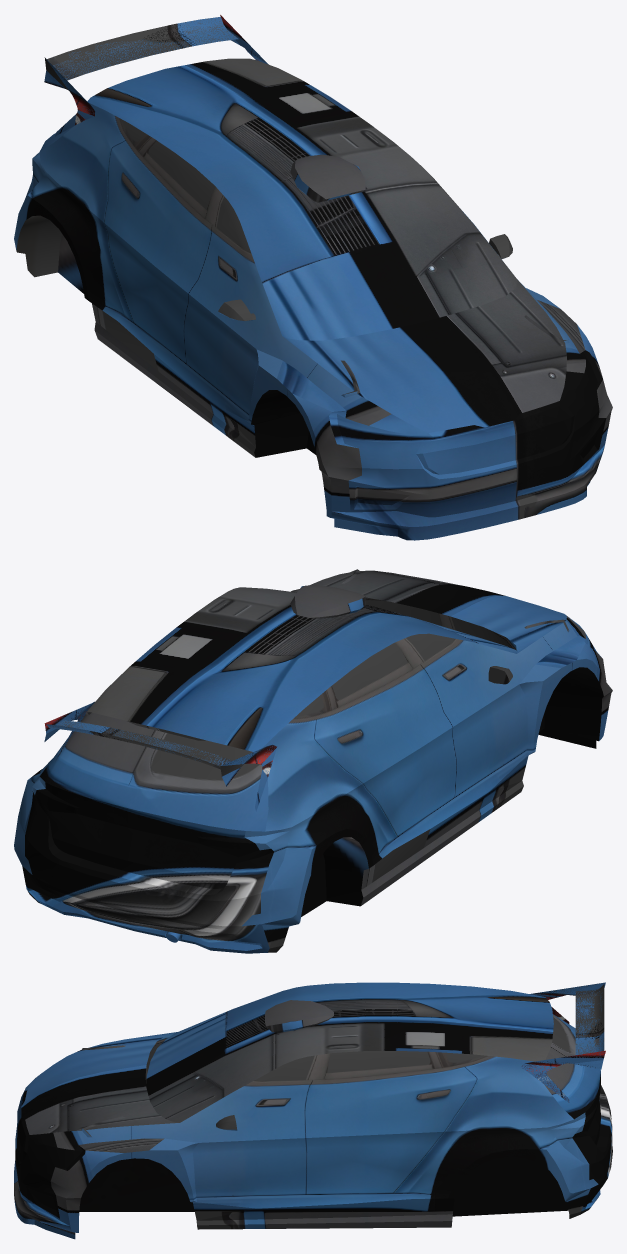
The model's file is car 15.fbx.
3 renders of one model, top to bottom at view 1: azimuth 30°, elevation 25°; view 2: azimuth 150°, elevation 25°; view 3: azimuth 270°, elevation 25°, orthographic. The views are drawn at different scales.
Parts seen in each view (by area): view 1: car_15; view 2: car_15; view 3: car_15.
Part boxes in pixels (x1,y1,x2,y2): car_15: (14, 15, 612, 540); car_15: (14, 569, 612, 953); car_15: (14, 982, 612, 1239).
Bounding box in the file's own units: 1.84 × 1.36 × 4.11.
